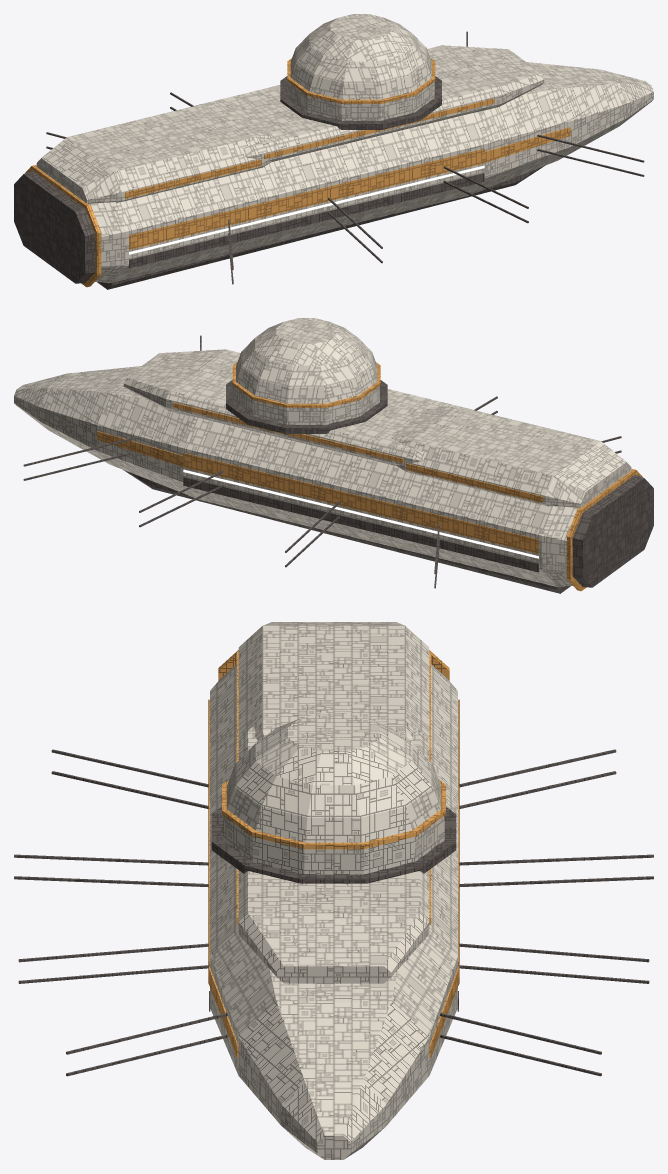
Rendered from collective_lod2.glb.
The picture shows the model from 3 angles, top to bottom: view 1: azimuth 30°, elevation 25°; view 2: azimuth 150°, elevation 25°; view 3: azimuth 270°, elevation 25°; orthographic projection. The views are drawn at different scales.
Visible parts, largest first — view 1: collective_lod2_body, collective_lod2_glow; view 2: collective_lod2_body, collective_lod2_glow; view 3: collective_lod2_body.
Part boxes in pixels (box(x1,y1,x2,y2)): collective_lod2_body: box(14, 14, 653, 289); collective_lod2_glow: box(129, 165, 484, 254); collective_lod2_body: box(14, 318, 653, 593); collective_lod2_glow: box(183, 469, 538, 558); collective_lod2_body: box(14, 622, 653, 1159).
Size of the model in its own units: 21.9 by 6.35 by 13.4.
Materials: 2 (1 with a texture image).
